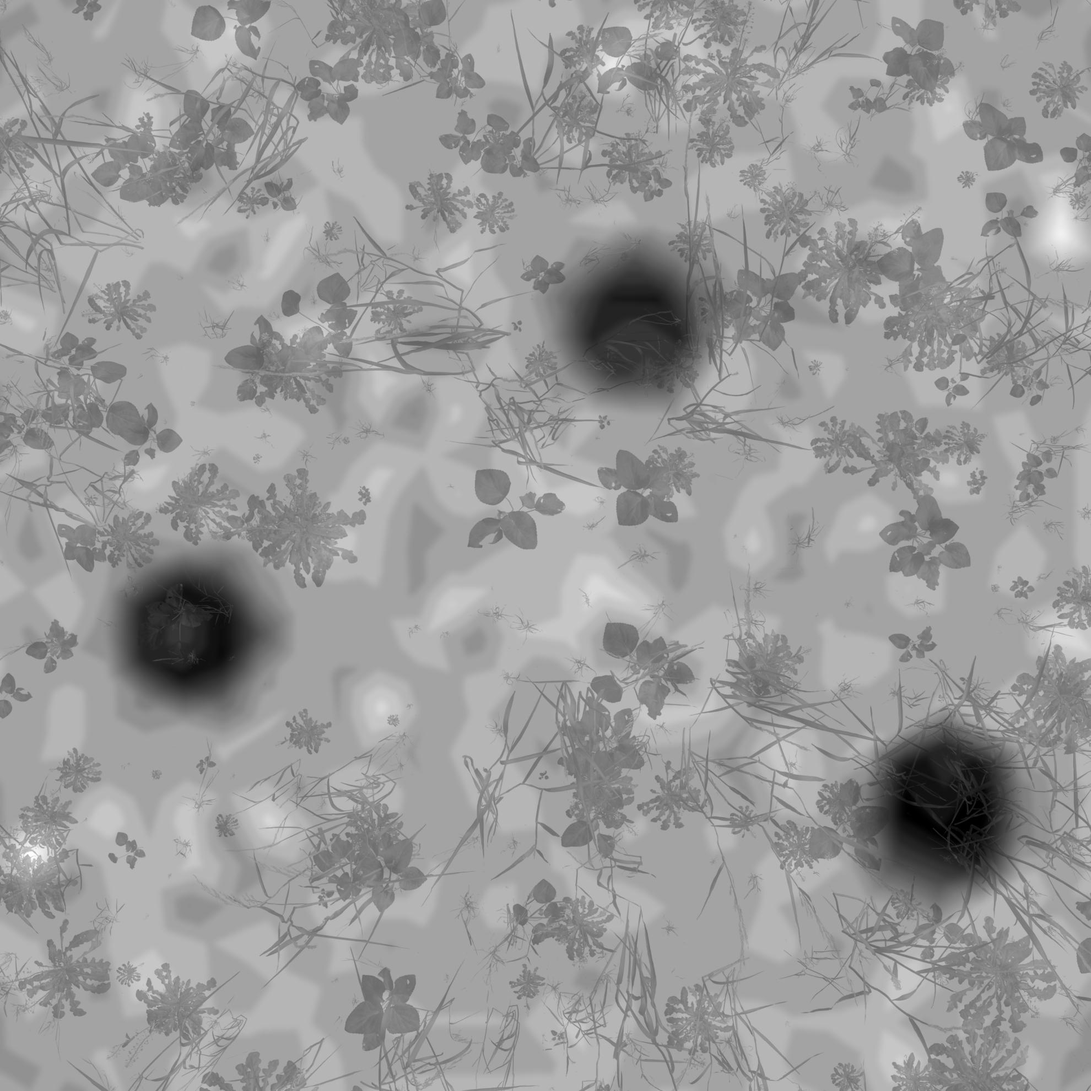landmine: (118, 543, 284, 718), (868, 729, 1031, 885), (562, 253, 698, 386)
